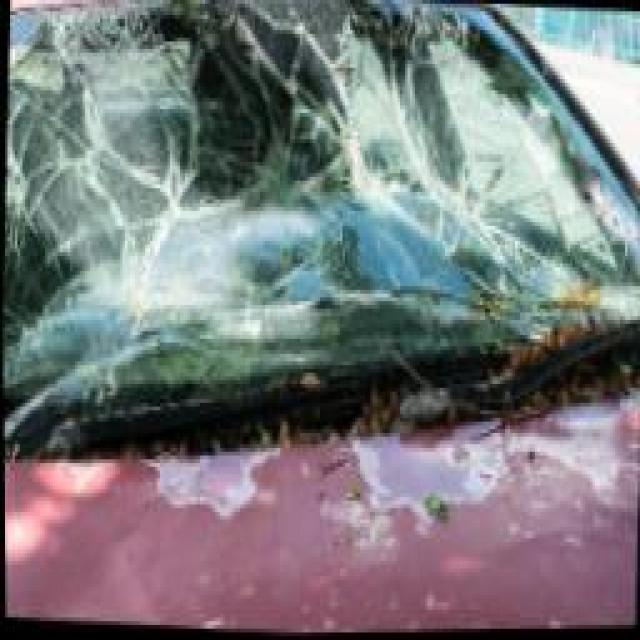Bonnet: (4, 398, 640, 634)
Windshield: (5, 4, 640, 399)
